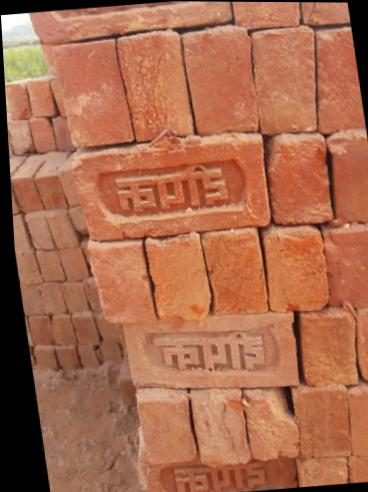brick: (71, 145, 274, 243), (123, 306, 302, 402), (50, 36, 136, 151), (181, 26, 262, 138), (29, 0, 234, 43), (249, 23, 325, 137), (117, 33, 195, 144), (307, 24, 367, 139), (262, 137, 335, 224), (199, 228, 269, 314), (260, 227, 330, 311), (89, 238, 155, 323), (145, 235, 211, 317), (147, 458, 300, 492), (292, 383, 353, 465), (191, 391, 254, 470), (137, 390, 199, 469), (298, 315, 360, 391), (300, 317, 362, 391), (245, 390, 304, 464), (323, 225, 368, 311), (330, 137, 368, 222), (230, 2, 305, 29), (296, 458, 353, 488), (346, 387, 368, 462), (353, 305, 368, 387), (25, 212, 55, 252), (48, 209, 78, 249), (11, 177, 42, 215), (26, 81, 56, 120), (300, 2, 350, 25), (35, 250, 67, 283), (48, 312, 76, 349), (15, 252, 45, 286), (70, 314, 101, 346), (5, 80, 31, 118), (39, 177, 68, 211), (61, 247, 89, 282), (30, 116, 55, 152), (61, 284, 89, 316), (19, 285, 45, 319), (7, 120, 33, 153), (41, 283, 66, 316), (28, 316, 54, 347), (32, 347, 59, 374), (13, 215, 32, 252), (76, 343, 100, 370), (99, 341, 123, 365), (57, 347, 79, 372), (349, 456, 368, 483)
